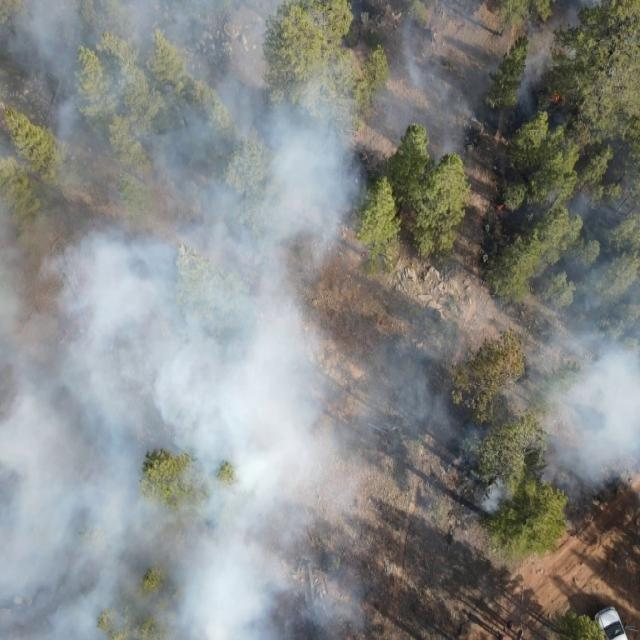fire: (549, 91, 564, 105), (496, 202, 508, 212)
smoke: (1, 1, 363, 640), (362, 0, 640, 530)
